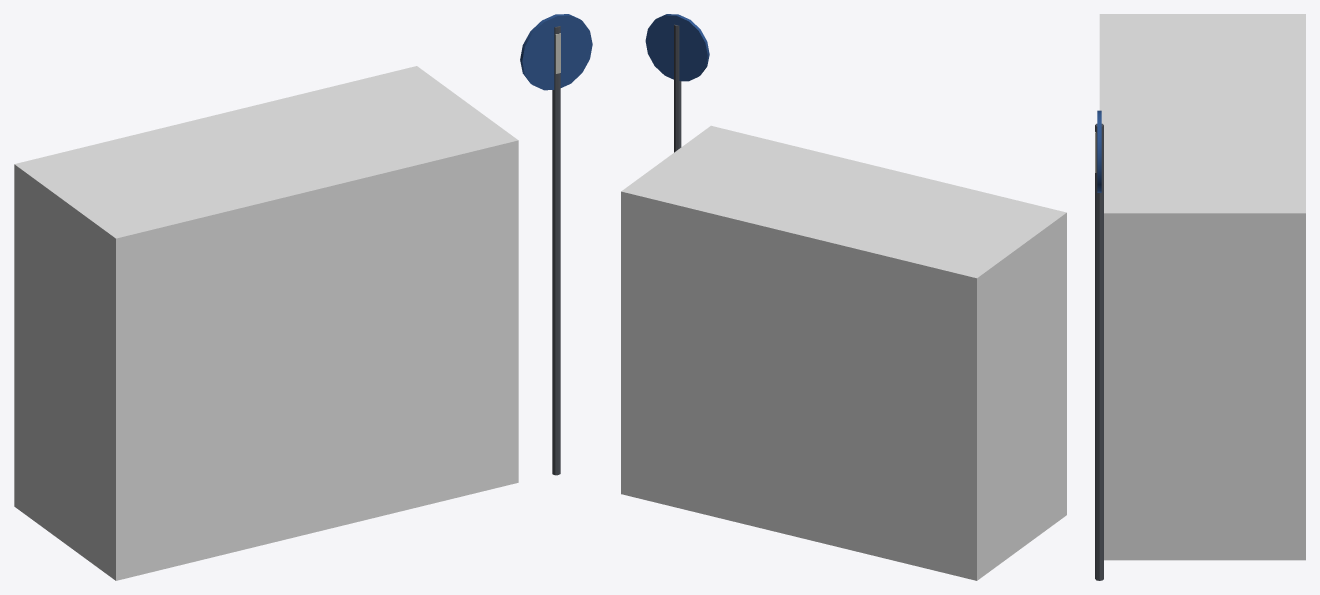
Rendered from bus_stop.glb.
3 views of the same model, side by side, from view 1: azimuth 30°, elevation 25°; view 2: azimuth 150°, elevation 25°; view 3: azimuth 270°, elevation 25° (orthographic). The views are drawn at different scales.
Visible parts, largest first — view 1: bus_stop-convcol, stop_mesh; view 2: bus_stop-convcol, stop_mesh; view 3: bus_stop-convcol, stop_mesh.
Part boxes in pixels (x1,y1,x2,y2): bus_stop-convcol: (14, 66, 518, 580); stop_mesh: (520, 14, 592, 475); bus_stop-convcol: (621, 125, 1066, 580); stop_mesh: (645, 14, 709, 152); bus_stop-convcol: (1099, 14, 1305, 560); stop_mesh: (1095, 110, 1103, 580).
Size of the model in its own units: 3.78 by 3.48 by 1.43.
